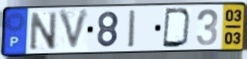3: (196, 8, 220, 47)
8: (96, 10, 120, 49)
D: (161, 7, 193, 49)
I: (128, 9, 138, 50)
N: (29, 10, 59, 52)
V: (57, 8, 92, 53)
